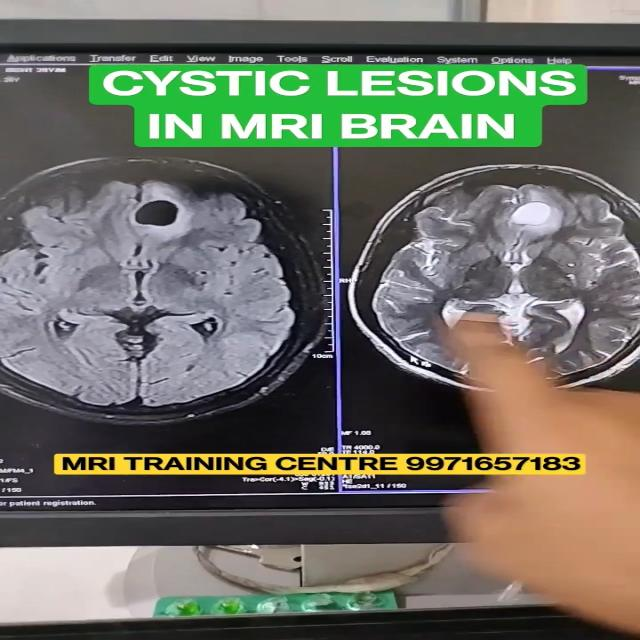tumor: (487, 185, 586, 248), (116, 195, 236, 222)
